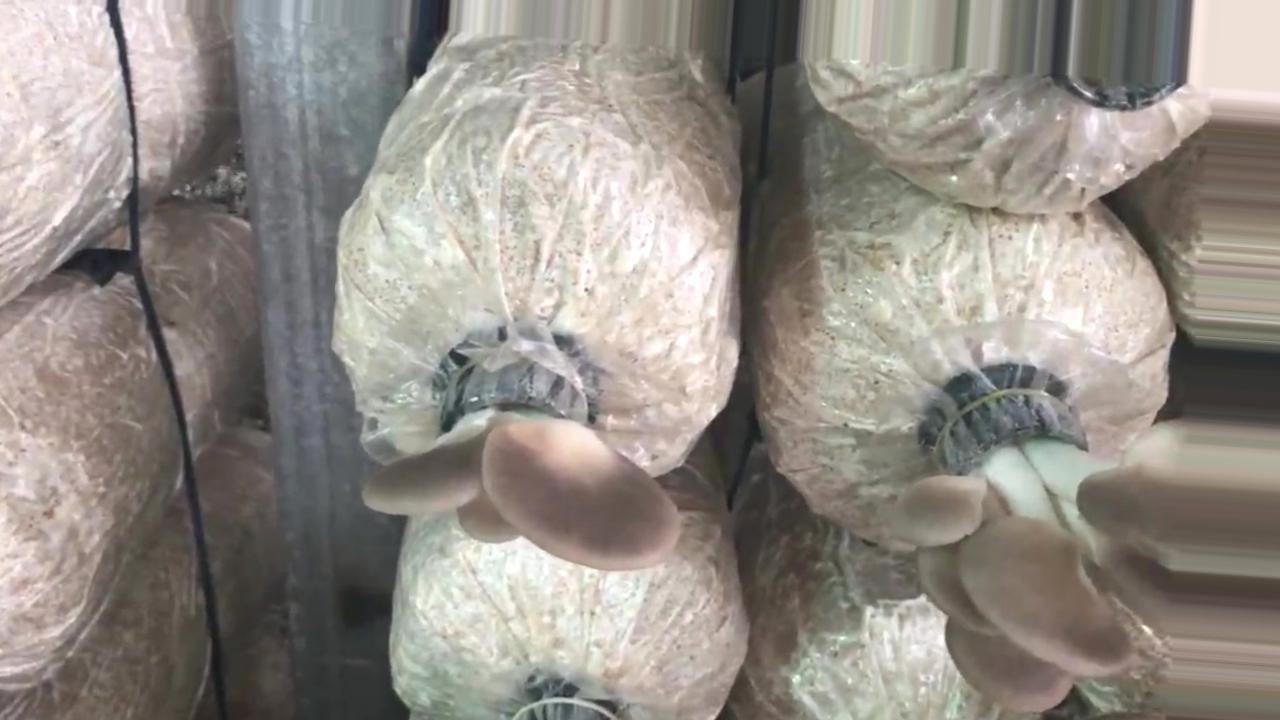nam: (896, 405, 1178, 713), (357, 330, 684, 577)
